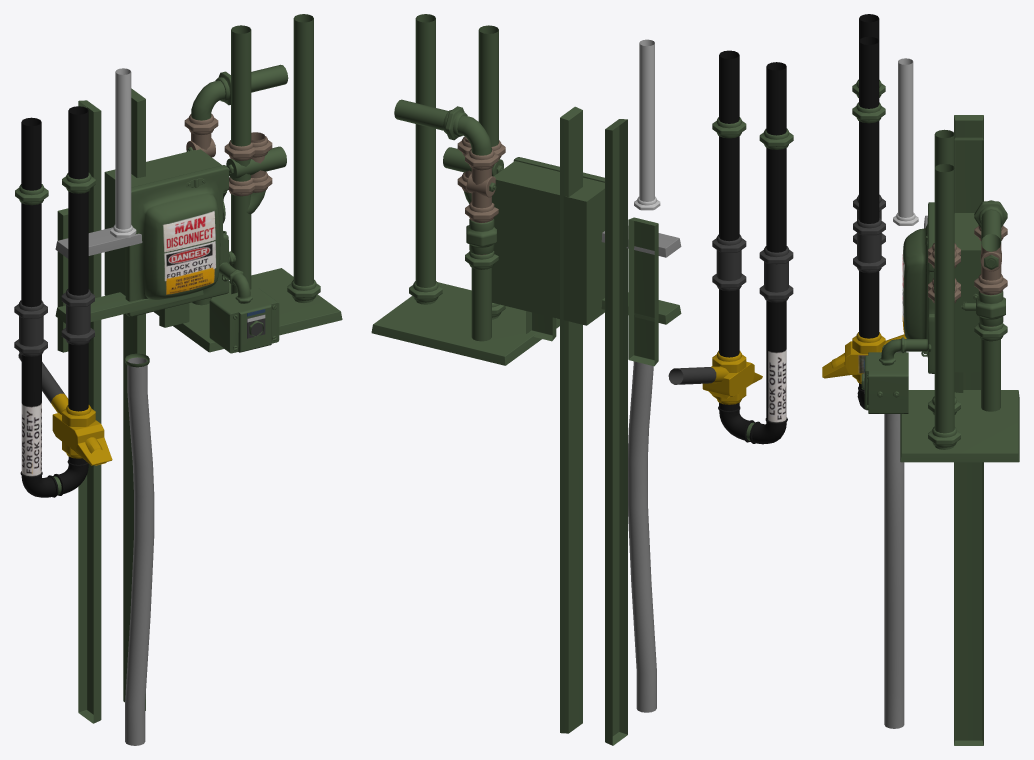
File: Bandpress.fbx
The picture shows the model from 3 angles, left to right: view 1: azimuth 30°, elevation 25°; view 2: azimuth 150°, elevation 25°; view 3: azimuth 270°, elevation 25°; orthographic projection.
Visible parts, largest first — view 1: PressureLock, polySurface131; view 2: PressureLock, polySurface131; view 3: PressureLock, polySurface131.
Part boxes in pixels (left/top/right/bottom): PressureLock: left=14, top=14, right=342, bottom=745; polySurface131: left=104, top=149, right=228, bottom=316; PressureLock: left=371, top=14, right=793, bottom=745; polySurface131: left=492, top=157, right=604, bottom=325; PressureLock: left=822, top=14, right=1019, bottom=745; polySurface131: left=902, top=202, right=981, bottom=373.
Size of the model in its own units: 199 by 374 by 101.
